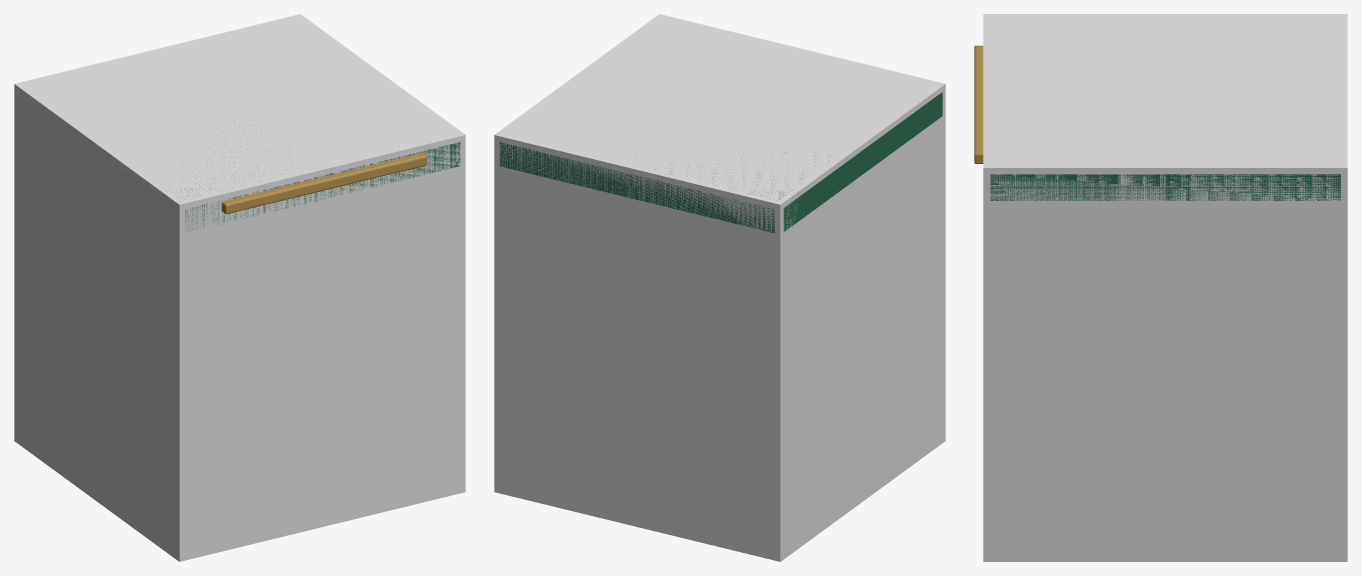
File: side-table_boutique.glb
3 views of the same model, side by side, from view 1: azimuth 30°, elevation 25°; view 2: azimuth 150°, elevation 25°; view 3: azimuth 270°, elevation 25° (orthographic). The views are drawn at different scales.
Visible parts, largest first — view 1: COL_side-table, MESH_TierTrim_01, MESH_Top; view 2: COL_side-table, MESH_Top; view 3: COL_side-table, MESH_Top, MESH_TierTrim_01.
Boxes of the visible parts, x1=… form: COL_side-table: x1=14, y1=14, x2=465, y2=561; MESH_TierTrim_01: x1=221, y1=153, x2=426, y2=214; MESH_Top: x1=95, y1=125, x2=460, y2=231; COL_side-table: x1=494, y1=14, x2=945, y2=561; MESH_Top: x1=499, y1=92, x2=942, y2=232; COL_side-table: x1=983, y1=14, x2=1347, y2=561; MESH_Top: x1=990, y1=174, x2=1340, y2=200; MESH_TierTrim_01: x1=974, y1=45, x2=983, y2=163.
Bounding box in the file's own units: 0.52 × 0.62 × 0.533.
